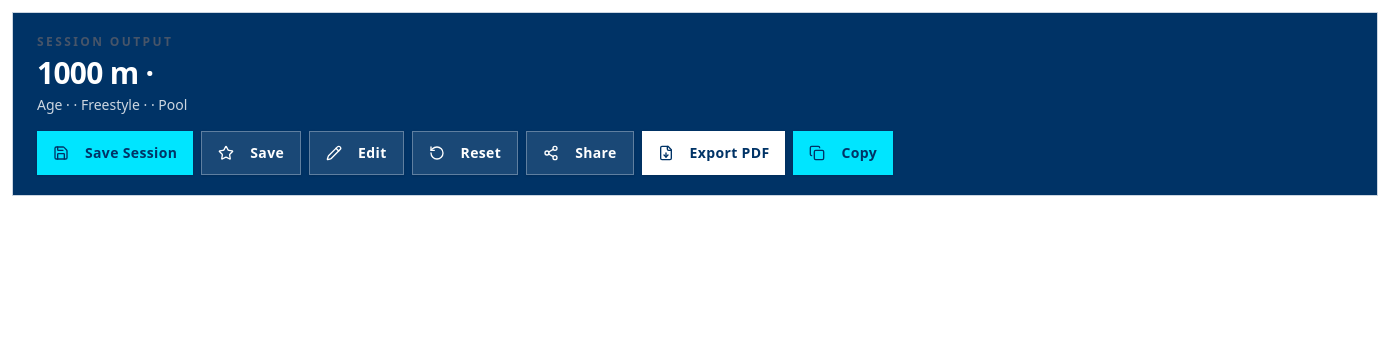
Test: guest uses the expected store for Save and History
Click the button "Save Session": (115, 153) x1=37 y1=131 x2=193 y2=175
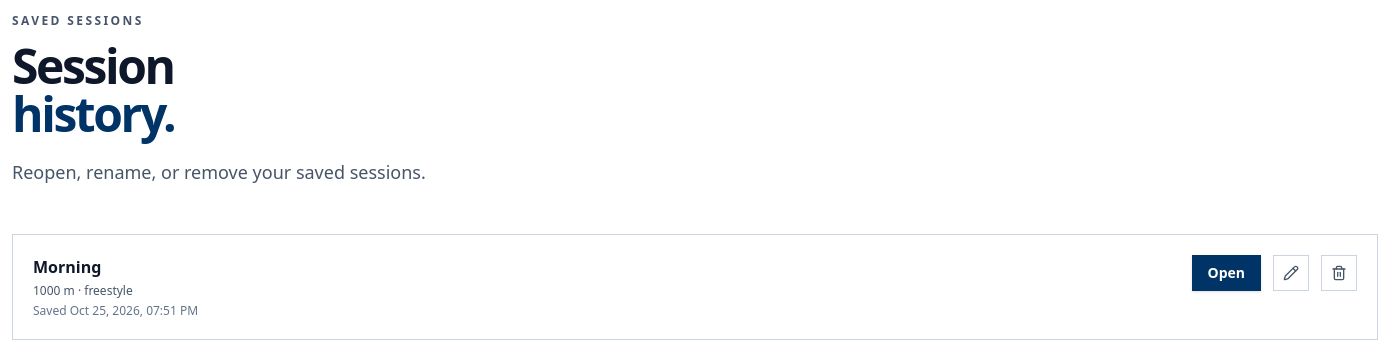
Check: the text "Morning" is shown, box x1=33 y1=256 x2=101 y2=278
